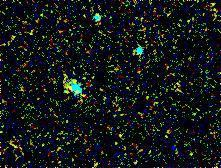star: (57, 71, 87, 101)
